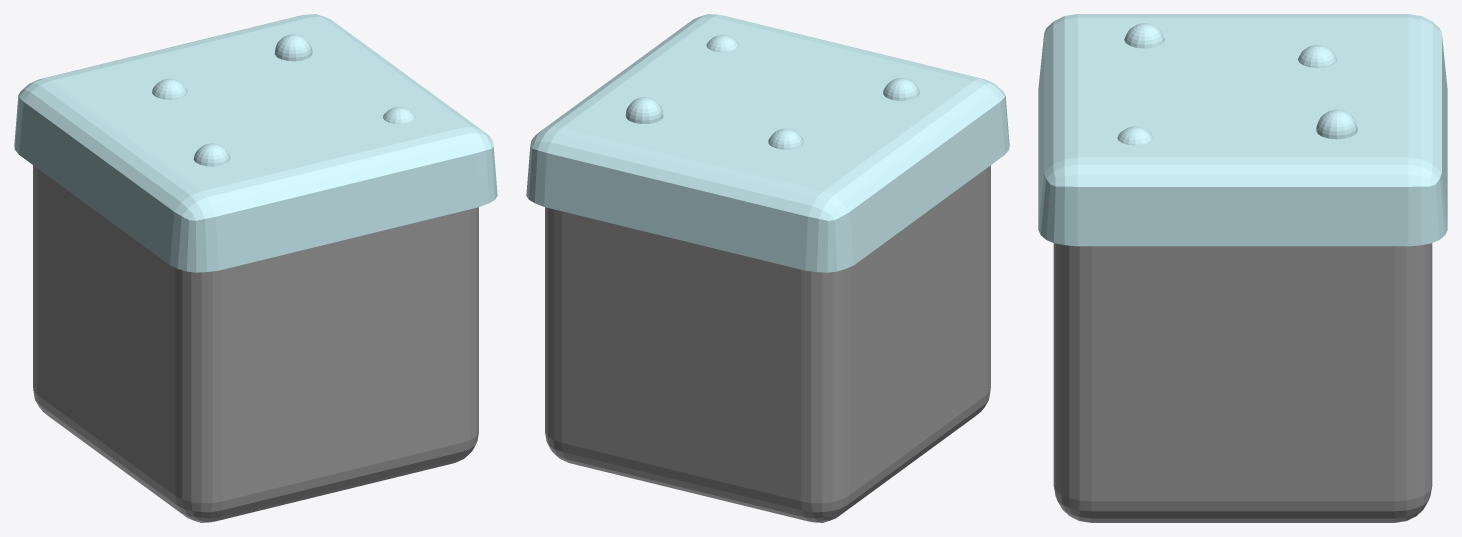
The model's file is floor_snow_2.fbx.
The picture shows the model from 3 angles, left to right: view 1: azimuth 30°, elevation 25°; view 2: azimuth 150°, elevation 25°; view 3: azimuth 270°, elevation 25°; orthographic projection. The views are drawn at different scales.
Parts seen in each view (by area): view 1: Cube.006, Cube.007; view 2: Cube.006, Cube.007; view 3: Cube.006, Cube.007.
Part boxes in pixels (bbox=[...]): Cube.006: bbox=[33, 165, 478, 522]; Cube.007: bbox=[14, 14, 497, 272]; Cube.006: bbox=[545, 165, 990, 522]; Cube.007: bbox=[526, 14, 1009, 272]; Cube.006: bbox=[1053, 243, 1432, 522]; Cube.007: bbox=[1038, 14, 1447, 246].
Size of the model in its own units: 198 by 207 by 198.
